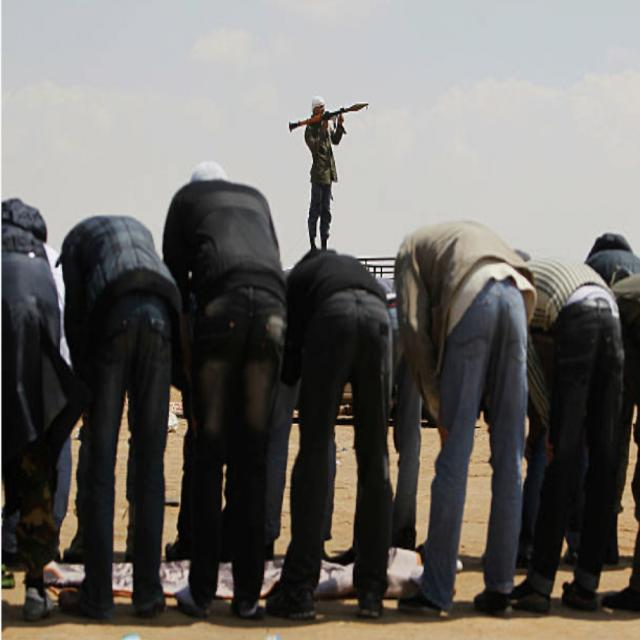bazooka: (291, 97, 372, 133)
